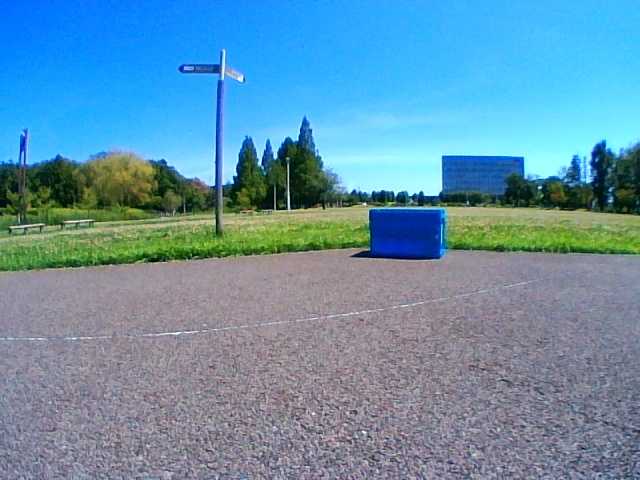blue_box: (369, 209, 446, 260)
tag: (440, 223, 442, 243)
